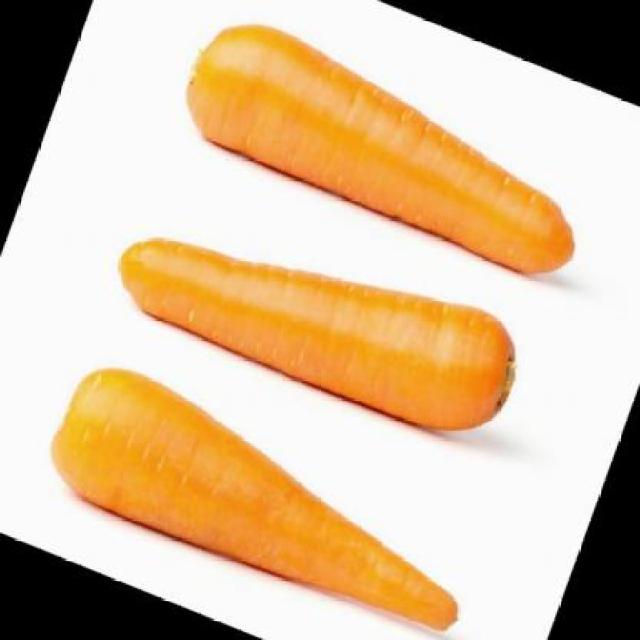carrot: (35, 351, 496, 638), (169, 4, 608, 291), (105, 176, 533, 456)
